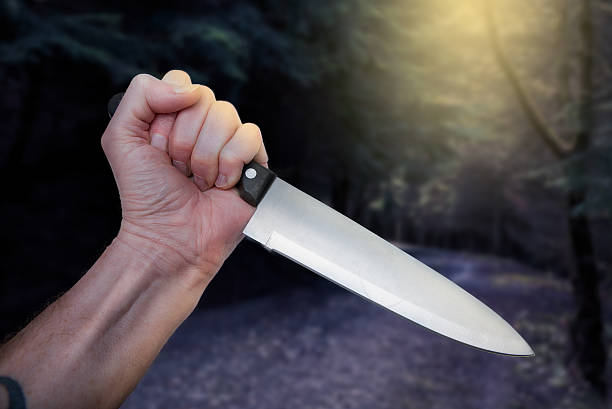knife: (240, 174, 538, 359)
